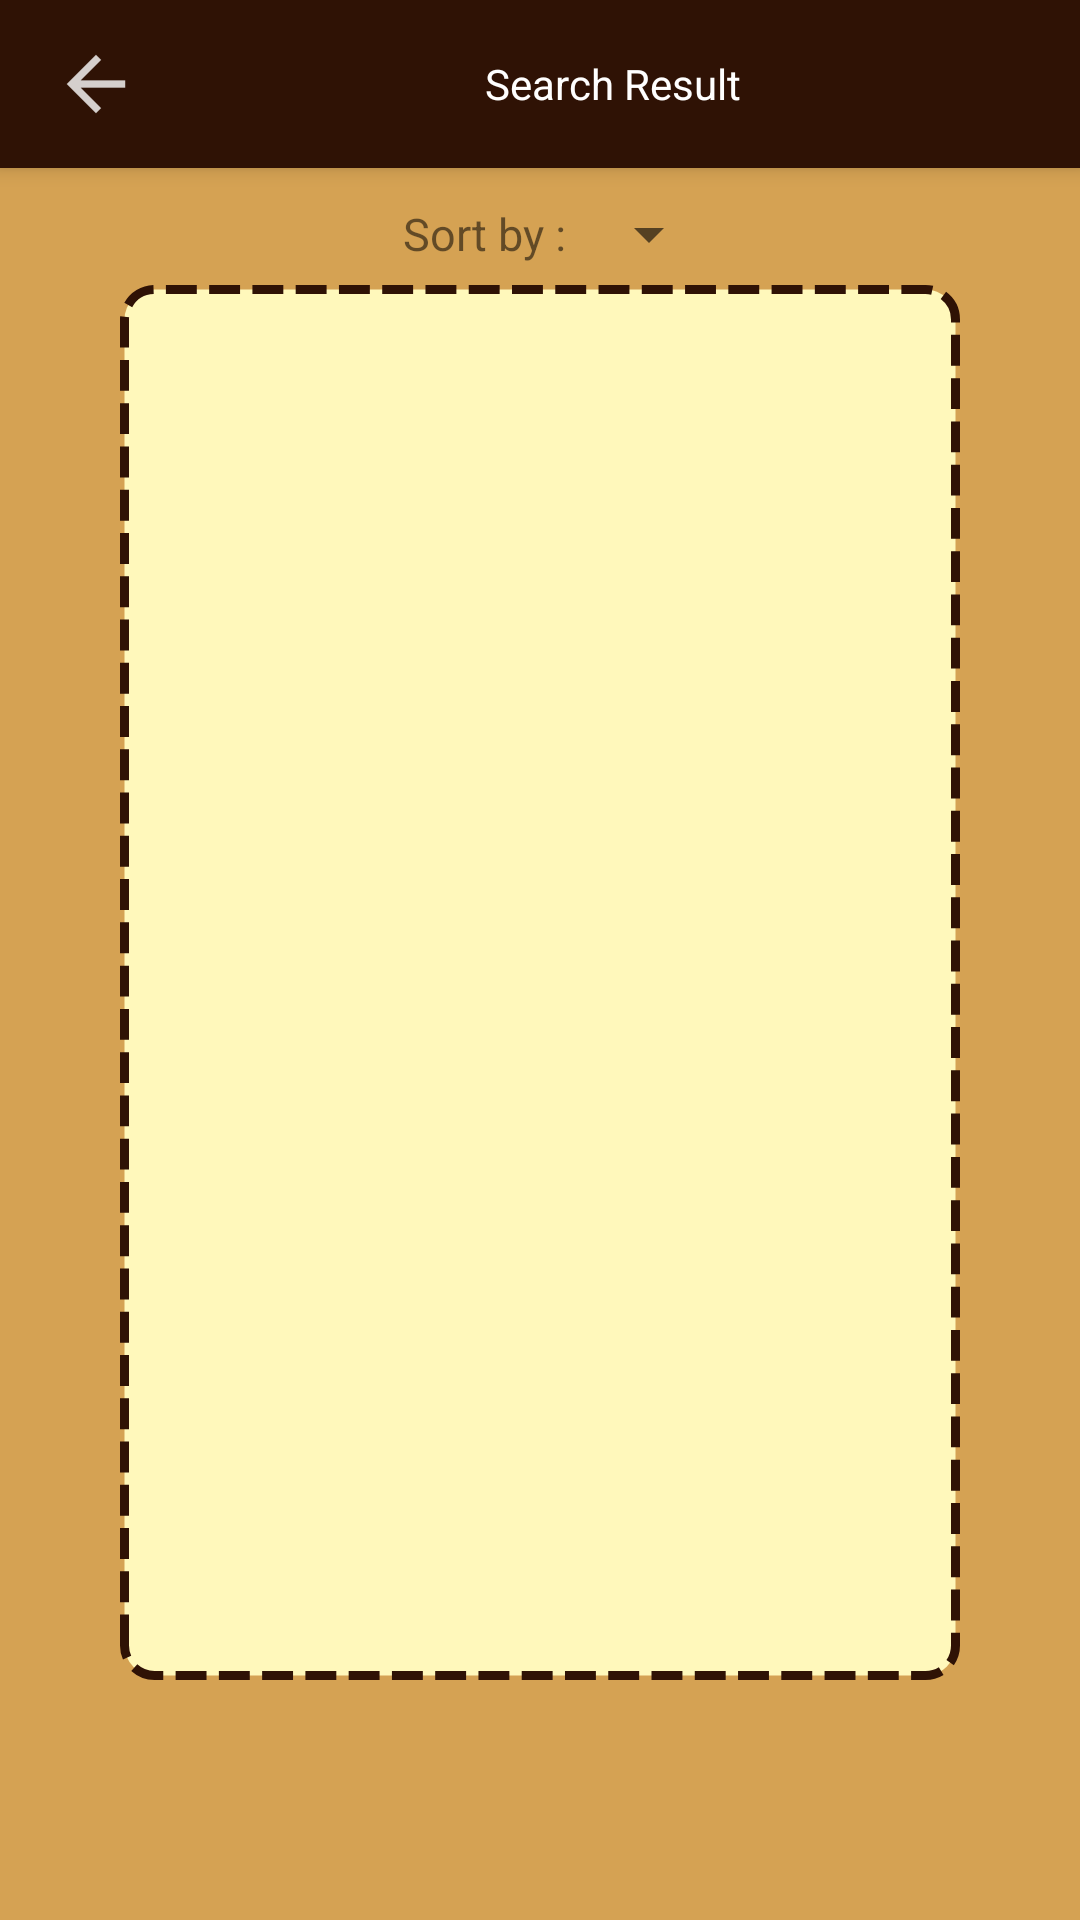

Icon click points for this 1080*1920 phone screenshot, format (x,y):
back: (96,84)
